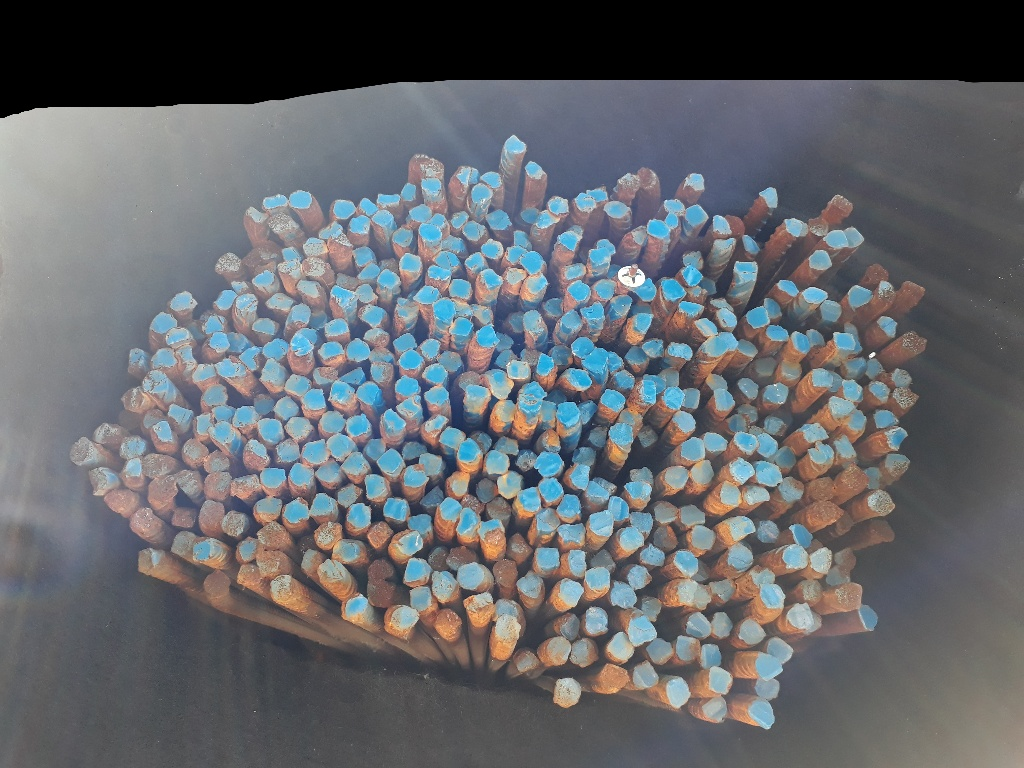dipstick: (464, 592, 495, 626), (244, 240, 281, 268), (88, 466, 121, 495), (364, 579, 396, 608), (665, 676, 692, 710), (627, 617, 658, 646), (434, 609, 462, 641), (432, 570, 459, 603), (552, 677, 581, 707), (181, 438, 210, 468), (242, 438, 270, 469), (93, 421, 124, 449), (205, 470, 232, 502), (203, 568, 232, 597), (708, 664, 735, 695), (176, 470, 207, 497), (103, 488, 137, 512), (167, 403, 195, 432), (748, 700, 775, 730), (608, 632, 635, 662), (552, 613, 582, 640), (403, 557, 430, 587), (507, 533, 533, 564), (120, 458, 146, 489), (835, 581, 863, 609), (866, 490, 895, 517), (754, 653, 783, 680), (282, 498, 311, 525), (313, 523, 343, 549), (142, 453, 175, 476), (842, 464, 869, 492), (633, 661, 660, 689), (363, 473, 390, 501), (326, 234, 354, 261), (568, 641, 597, 667), (257, 522, 286, 548), (326, 433, 356, 458), (149, 421, 174, 451), (625, 344, 649, 375), (647, 638, 674, 665), (456, 563, 483, 590), (150, 475, 177, 502), (69, 436, 96, 463), (755, 461, 783, 487), (478, 519, 506, 545), (343, 450, 369, 478), (547, 636, 572, 665), (302, 438, 331, 463), (639, 543, 666, 569), (583, 346, 609, 373), (517, 572, 544, 598), (270, 574, 296, 601), (257, 417, 283, 444), (177, 470, 203, 497), (588, 510, 613, 538), (517, 486, 542, 514), (489, 371, 514, 399), (535, 452, 564, 476), (496, 472, 522, 498), (367, 522, 393, 548), (256, 550, 282, 576), (285, 414, 311, 440), (782, 544, 809, 569), (760, 582, 785, 609), (727, 545, 754, 570), (661, 277, 686, 304), (710, 578, 737, 603), (686, 612, 711, 639), (493, 558, 518, 585), (130, 506, 155, 533), (738, 620, 766, 644), (728, 516, 756, 540), (674, 550, 698, 578), (626, 566, 654, 590), (601, 663, 629, 687), (302, 549, 326, 577), (140, 369, 168, 393), (816, 500, 845, 523), (446, 546, 475, 569), (884, 453, 910, 478), (787, 603, 812, 629), (767, 638, 793, 663), (779, 476, 805, 501), (691, 525, 716, 551), (653, 524, 678, 550), (536, 508, 561, 534), (585, 608, 610, 634), (345, 337, 370, 363), (261, 359, 286, 385), (231, 472, 257, 497), (170, 530, 196, 555), (255, 496, 282, 520), (220, 512, 247, 536), (232, 404, 259, 428), (318, 560, 346, 583), (203, 449, 231, 472), (891, 386, 920, 408), (330, 285, 359, 307), (202, 384, 231, 406), (331, 541, 361, 562), (848, 284, 873, 309), (200, 502, 225, 527), (808, 442, 834, 466), (599, 387, 625, 411), (590, 549, 616, 573), (611, 584, 637, 608), (559, 581, 583, 607), (439, 496, 463, 522), (214, 252, 240, 276), (873, 517, 896, 544), (834, 434, 857, 461), (829, 395, 856, 418), (640, 595, 663, 622), (483, 451, 510, 474), (318, 342, 345, 365), (150, 310, 177, 333), (557, 521, 586, 542), (265, 290, 294, 311), (903, 330, 928, 354), (719, 482, 743, 507), (664, 466, 689, 490), (703, 696, 728, 720), (676, 635, 700, 660), (632, 379, 656, 404), (557, 401, 581, 426), (539, 477, 563, 502), (496, 614, 520, 639), (383, 497, 408, 521), (398, 530, 423, 554), (276, 438, 301, 462), (234, 536, 258, 561), (171, 505, 196, 529), (754, 677, 780, 700), (555, 494, 581, 517), (534, 545, 560, 568), (440, 426, 466, 449), (432, 296, 455, 322), (376, 449, 402, 472), (409, 586, 432, 612), (336, 482, 362, 505), (310, 492, 333, 518), (733, 432, 760, 454), (711, 611, 733, 638), (420, 414, 447, 436), (405, 514, 432, 536), (215, 358, 246, 377), (743, 484, 771, 505), (395, 396, 423, 417), (314, 460, 342, 481), (192, 361, 220, 382), (568, 549, 588, 578), (902, 281, 926, 305), (813, 476, 837, 500), (799, 578, 823, 602), (809, 548, 833, 572), (755, 520, 779, 544), (487, 495, 511, 519), (755, 432, 778, 457), (691, 460, 714, 485), (699, 644, 722, 669), (619, 527, 644, 550), (515, 649, 540, 672), (448, 471, 471, 496), (455, 508, 478, 533), (360, 305, 385, 328), (289, 333, 312, 358), (653, 501, 679, 523), (401, 465, 427, 487), (288, 463, 314, 485), (136, 547, 158, 573), (825, 566, 852, 587), (858, 604, 879, 631), (840, 358, 867, 379), (763, 383, 790, 404), (679, 505, 706, 526), (484, 209, 511, 230), (328, 383, 355, 404), (150, 347, 177, 368), (166, 325, 193, 346), (262, 339, 290, 359), (833, 547, 857, 570), (662, 386, 686, 409), (681, 438, 705, 461), (609, 293, 632, 317), (470, 301, 494, 324), (457, 438, 480, 462), (370, 360, 394, 383), (383, 409, 407, 432), (321, 410, 345, 433), (362, 328, 391, 347), (684, 205, 709, 227), (703, 431, 728, 453), (609, 423, 634, 445), (580, 301, 605, 323), (584, 567, 609, 589), (477, 478, 499, 503), (479, 267, 504, 289), (423, 385, 448, 407), (275, 396, 300, 418), (676, 579, 697, 605), (570, 464, 591, 490), (666, 341, 693, 361), (392, 606, 419, 626), (367, 558, 394, 578), (312, 365, 339, 385), (252, 269, 279, 289), (625, 480, 653, 499), (343, 416, 371, 435), (841, 380, 864, 403), (774, 447, 797, 470), (731, 458, 754, 481), (736, 378, 759, 401), (634, 279, 657, 302), (476, 325, 499, 348), (520, 250, 543, 273), (357, 381, 380, 404), (237, 562, 260, 585), (745, 307, 769, 329), (674, 410, 696, 434), (568, 368, 592, 390), (607, 496, 629, 520), (420, 486, 444, 508), (418, 453, 442, 475), (395, 296, 417, 320), (285, 373, 309, 395), (210, 420, 234, 442), (703, 336, 728, 357), (628, 511, 653, 532), (460, 495, 485, 516), (353, 283, 378, 304), (347, 504, 368, 529), (202, 312, 227, 333), (417, 223, 443, 243), (260, 467, 286, 487), (269, 213, 295, 233), (625, 318, 644, 345), (515, 448, 537, 471), (506, 359, 529, 381), (304, 387, 327, 409), (122, 387, 144, 410), (592, 279, 616, 300), (576, 399, 597, 423), (584, 480, 608, 501), (494, 599, 518, 620), (480, 239, 504, 260), (240, 346, 261, 370), (144, 409, 165, 433), (750, 567, 775, 587), (447, 279, 472, 299), (423, 364, 448, 384), (803, 424, 829, 443), (520, 382, 546, 401), (432, 250, 459, 268), (170, 291, 197, 309), (737, 403, 759, 425), (215, 288, 237, 310), (867, 264, 890, 285), (868, 381, 889, 404), (887, 427, 908, 450), (809, 249, 832, 270), (792, 524, 813, 547), (763, 415, 786, 436), (713, 388, 734, 411), (395, 375, 418, 396), (291, 304, 312, 327), (209, 329, 230, 352), (194, 537, 215, 560), (874, 409, 898, 429), (615, 269, 635, 293), (494, 436, 518, 456), (442, 237, 466, 257), (437, 351, 461, 371), (428, 547, 448, 571), (420, 158, 444, 178), (339, 366, 363, 386), (126, 348, 146, 372), (177, 346, 197, 370), (847, 407, 866, 432), (414, 285, 439, 304), (401, 440, 427, 458), (821, 300, 842, 322), (843, 227, 864, 249), (638, 425, 659, 447), (420, 337, 441, 359), (811, 367, 834, 387), (694, 317, 717, 337), (621, 408, 644, 428), (637, 166, 657, 189), (567, 281, 590, 301), (571, 337, 594, 357), (588, 425, 608, 448), (558, 230, 581, 250), (377, 269, 400, 289), (254, 392, 274, 415), (367, 346, 394, 363), (832, 332, 856, 351), (824, 230, 848, 249), (594, 475, 618, 494), (397, 350, 421, 369), (301, 256, 325, 275), (296, 279, 320, 298), (536, 211, 561, 229), (303, 238, 328, 256), (324, 318, 349, 336), (802, 287, 828, 304), (602, 200, 628, 217), (464, 384, 490, 401), (681, 387, 702, 408), (633, 313, 654, 334), (525, 273, 546, 294), (353, 246, 374, 267), (365, 438, 386, 459), (878, 315, 898, 337), (691, 559, 711, 581), (642, 339, 664, 359), (618, 173, 638, 195), (551, 344, 573, 364), (523, 310, 543, 332), (345, 595, 367, 615), (864, 465, 883, 488), (759, 186, 778, 209), (754, 358, 777, 377), (643, 374, 666, 393), (449, 317, 472, 336), (225, 332, 248, 351), (185, 321, 208, 340), (289, 190, 313, 208), (709, 298, 734, 315), (695, 584, 712, 609), (778, 278, 798, 299), (762, 298, 782, 319), (716, 308, 737, 328), (741, 234, 761, 255), (711, 216, 732, 236), (495, 401, 516, 421), (451, 297, 472, 317), (420, 176, 441, 196), (831, 194, 853, 213), (806, 217, 828, 236), (791, 331, 810, 353), (682, 250, 704, 269), (681, 266, 703, 285), (518, 348, 540, 367), (493, 331, 515, 350), (463, 222, 485, 241), (400, 253, 422, 272), (348, 214, 370, 233), (357, 262, 379, 281), (279, 260, 301, 279), (246, 206, 268, 225), (878, 280, 896, 303), (572, 447, 595, 465), (391, 227, 414, 245), (333, 199, 356, 217), (252, 317, 275, 335), (235, 293, 258, 311), (766, 324, 790, 341), (647, 220, 671, 237), (393, 334, 417, 351), (319, 222, 343, 239), (726, 214, 746, 234), (630, 466, 655, 482), (562, 263, 587, 279), (685, 173, 706, 192), (548, 197, 569, 216), (835, 510, 853, 532), (781, 360, 803, 378), (705, 373, 727, 391), (663, 197, 685, 215), (605, 350, 623, 372), (471, 432, 493, 450), (471, 184, 493, 202), (409, 203, 431, 221), (372, 209, 394, 227), (213, 403, 235, 421), (195, 412, 213, 434), (891, 370, 914, 387), (536, 352, 553, 375), (495, 350, 518, 367), (449, 208, 468, 228), (119, 409, 139, 428), (726, 414, 747, 432), (660, 368, 681, 386), (589, 247, 610, 265), (544, 297, 562, 318), (262, 194, 287, 209), (686, 286, 708, 303), (539, 399, 556, 421), (335, 273, 358, 289), (733, 261, 759, 275), (679, 301, 705, 315), (783, 218, 802, 237), (719, 332, 738, 351), (541, 431, 560, 450), (308, 310, 327, 329), (630, 225, 648, 245), (466, 251, 484, 271), (826, 371, 843, 392), (737, 340, 758, 357), (459, 372, 480, 389), (505, 246, 526, 263), (514, 393, 539, 407), (377, 192, 402, 206), (509, 310, 524, 333), (428, 266, 451, 281), (229, 279, 252, 294), (505, 135, 525, 152), (458, 167, 478, 184), (297, 328, 317, 345), (805, 329, 823, 347), (775, 409, 794, 426), (525, 162, 542, 181), (361, 198, 378, 217), (809, 610, 823, 633), (597, 239, 617, 255), (866, 360, 883, 378), (427, 213, 446, 229), (506, 267, 526, 282), (480, 172, 500, 187), (712, 238, 737, 249), (700, 277, 716, 294), (513, 231, 530, 247), (402, 182, 417, 200), (547, 390, 567, 403), (380, 258, 398, 271), (843, 322, 857, 338), (282, 247, 300, 259), (664, 213, 678, 227)
